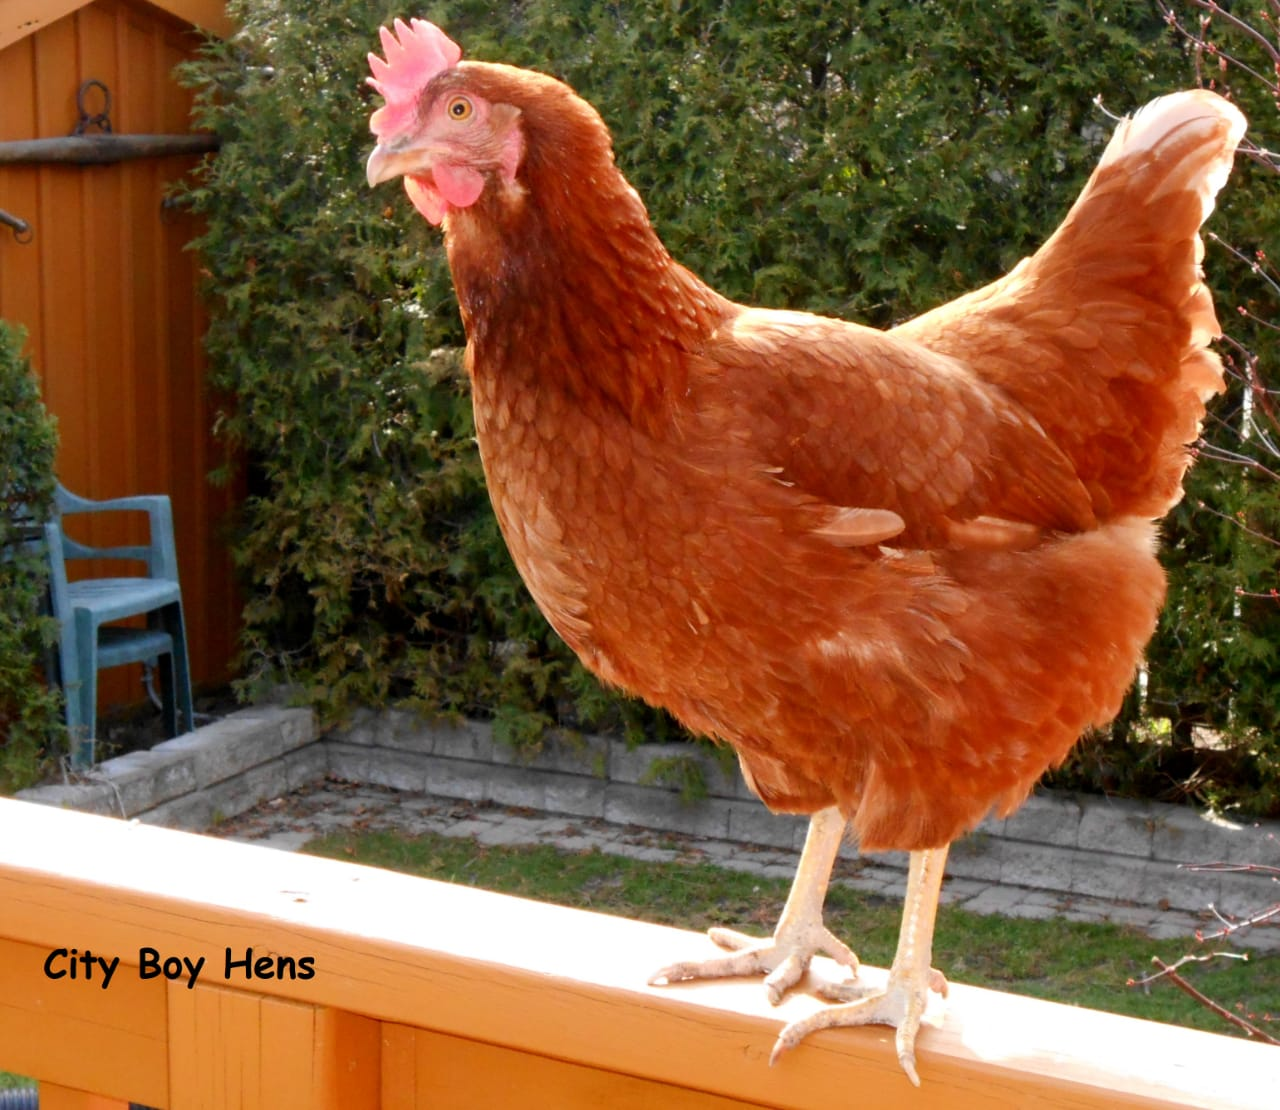Healthy: (348, 12, 1201, 1050)
